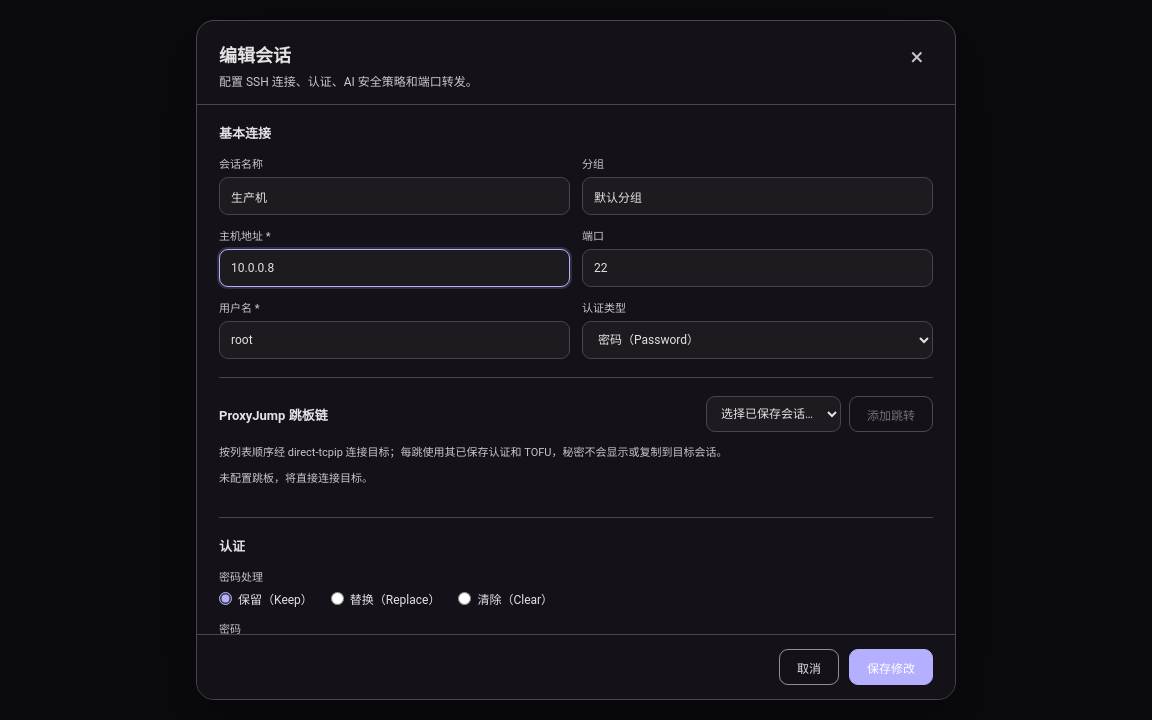
it: NewSessionDialog 秘密 Keep / Replace / Clear › Password Replace 只有输入新密码后才提交替换补丁
Later steps or results of the test are not shown.
Click the radio button labelled "替换（Replace）".
click(337, 598)  # box [331,592,344,605]
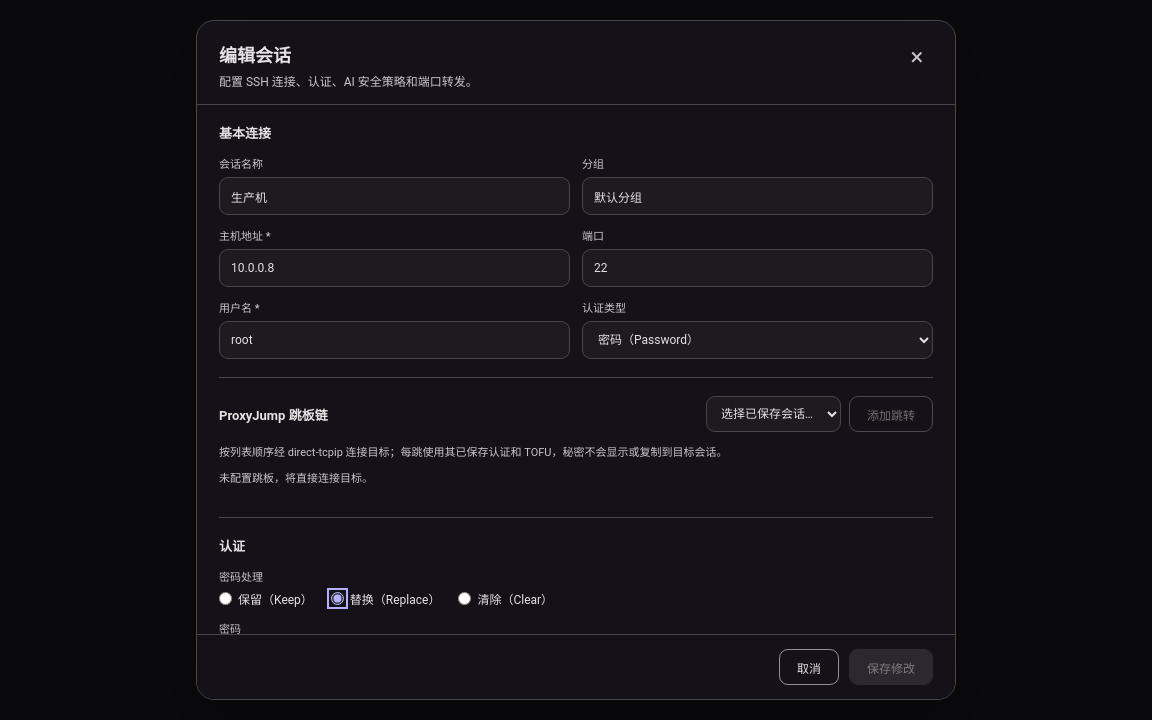
Result: the button "保存修改" is disabled at [849,649,933,685]
